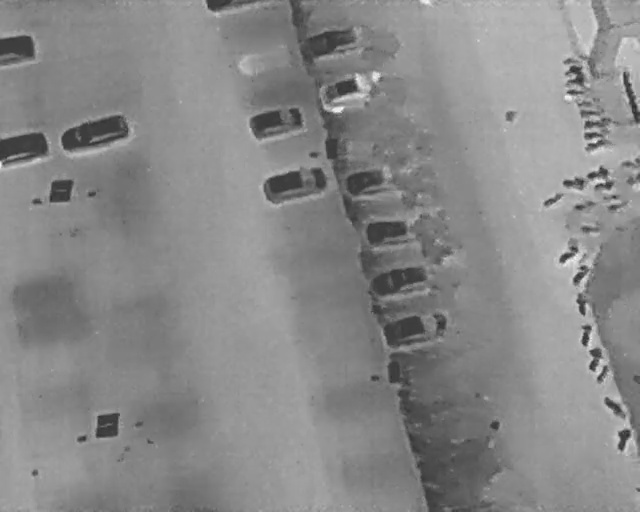Car: (258, 158, 331, 207), (57, 111, 132, 156), (367, 259, 440, 299), (381, 307, 450, 349), (298, 21, 365, 63), (317, 67, 377, 107), (246, 103, 306, 142), (365, 213, 420, 249), (345, 163, 400, 198), (2, 128, 50, 168), (1, 34, 36, 69), (204, 0, 278, 13)
